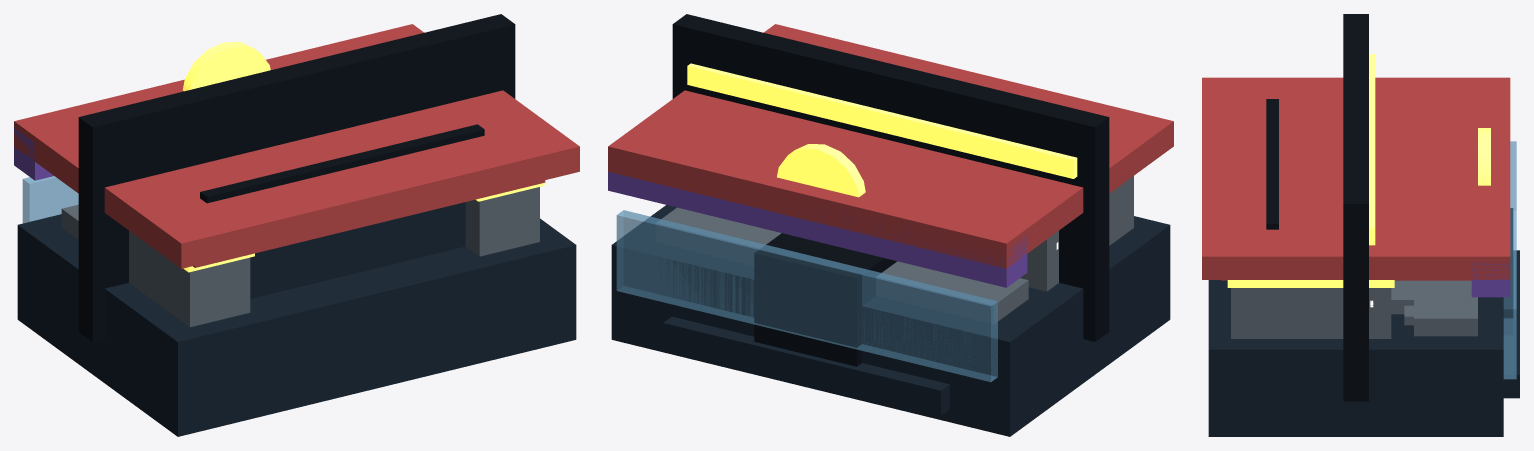
Rendered from terminal-props.glb.
The picture shows the model from 3 angles, left to right: view 1: azimuth 30°, elevation 25°; view 2: azimuth 150°, elevation 25°; view 3: azimuth 270°, elevation 25°; orthographic projection. The views are drawn at different scales.
Visible parts, largest first — view 1: Duty_Base, Snack_Canopy, Screen, Cafe_Backbar, Duty_Shelf_-24, Duty_Shelf_24, Snack_Menu_Board, Cafe_Sign, Duty_Glass, Cafe_Canopy, Duty_Header; view 2: Snack_Canopy, Duty_Base, Duty_Glass, Screen, Xray, Snack_Service_Counter, Belt, Duty_Header, Header, Cafe_Sign, Duty_Shelf_-24; view 3: Snack_Canopy, Duty_Base, Screen, Duty_Shelf_24, Snack_Service_Counter, Duty_Glass, Snack_Menu_Board, Belt, Header, Duty_Light_24, Duty_Header, Cafe_Sign (+2 smaller).
Boxes of the visible parts, bbox=[...] form: Duty_Base: bbox=[17, 214, 576, 436]; Snack_Canopy: bbox=[14, 24, 579, 268]; Screen: bbox=[78, 14, 515, 341]; Cafe_Backbar: bbox=[250, 202, 465, 298]; Duty_Shelf_-24: bbox=[129, 231, 250, 327]; Duty_Shelf_24: bbox=[465, 187, 539, 256]; Snack_Menu_Board: bbox=[200, 124, 484, 203]; Cafe_Sign: bbox=[183, 41, 270, 91]; Duty_Glass: bbox=[22, 176, 78, 223]; Cafe_Canopy: bbox=[193, 180, 545, 267]; Duty_Header: bbox=[14, 127, 53, 180]; Snack_Canopy: bbox=[608, 24, 1173, 268]; Duty_Base: bbox=[611, 205, 1170, 436]; Duty_Glass: bbox=[616, 210, 997, 382]; Screen: bbox=[672, 14, 1109, 341]; Xray: bbox=[754, 233, 896, 366]; Snack_Service_Counter: bbox=[656, 207, 1028, 324]; Belt: bbox=[663, 316, 949, 415]; Duty_Header: bbox=[608, 171, 1027, 287]; Header: bbox=[687, 63, 1077, 178]; Cafe_Sign: bbox=[777, 144, 865, 197]; Duty_Shelf_-24: bbox=[1020, 176, 1133, 291]; Snack_Canopy: bbox=[1202, 77, 1510, 279]; Duty_Base: bbox=[1208, 280, 1503, 436]; Screen: bbox=[1343, 14, 1368, 401]; Duty_Shelf_24: bbox=[1231, 288, 1391, 338]; Snack_Service_Counter: bbox=[1414, 280, 1477, 336]; Duty_Glass: bbox=[1503, 141, 1516, 379]; Snack_Menu_Board: bbox=[1266, 99, 1278, 229]; Belt: bbox=[1503, 250, 1519, 398]; Header: bbox=[1369, 54, 1375, 245]; Duty_Light_24: bbox=[1227, 280, 1394, 287]; Duty_Header: bbox=[1471, 262, 1510, 297]; Cafe_Sign: bbox=[1478, 128, 1490, 185].
Size of what is drawn, in the model's own units: 7 by 4.1 by 4.95.
